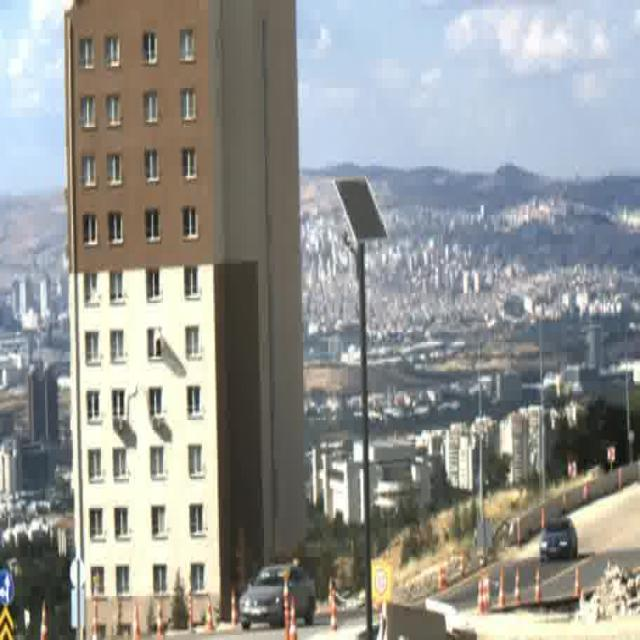Car: (241, 564, 314, 629), (540, 516, 578, 562)
